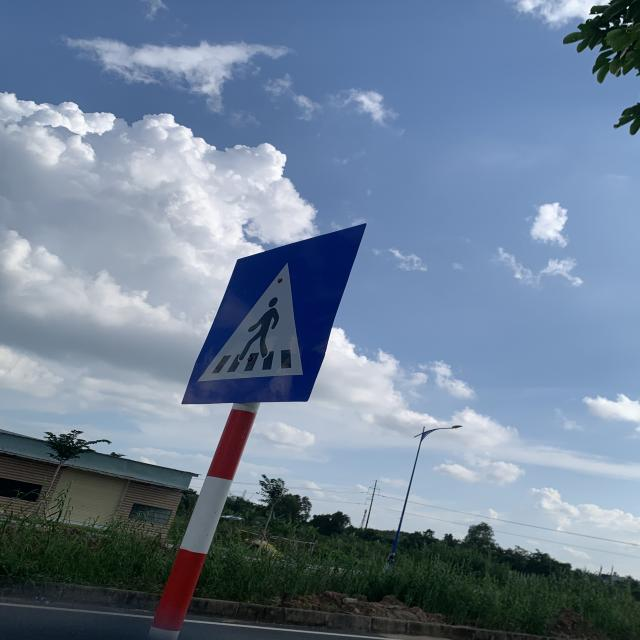Giao_Nhau_Duong_Uu_Tien: (179, 223, 369, 407)
